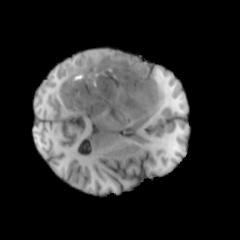glioma: (52, 50, 164, 126)
